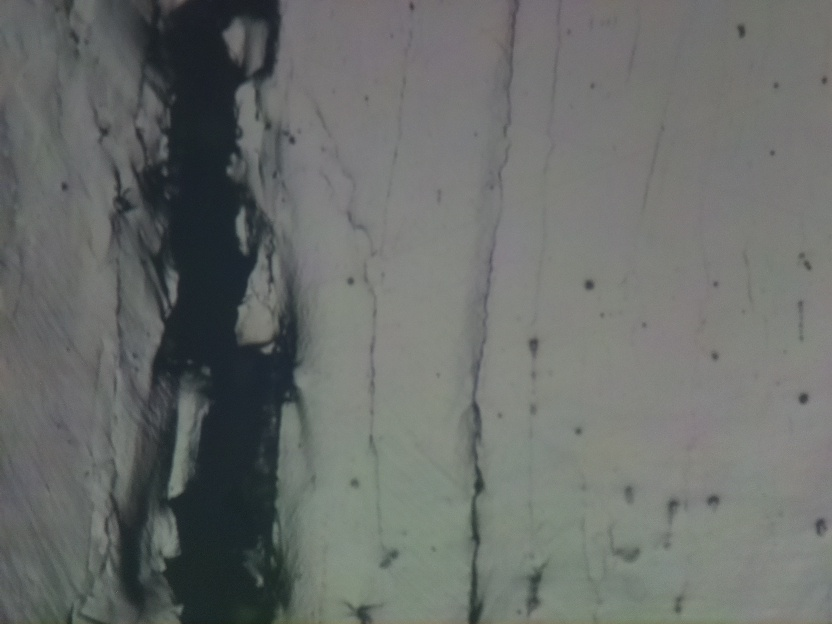crack: (145, 0, 298, 624), (470, 207, 497, 624)
